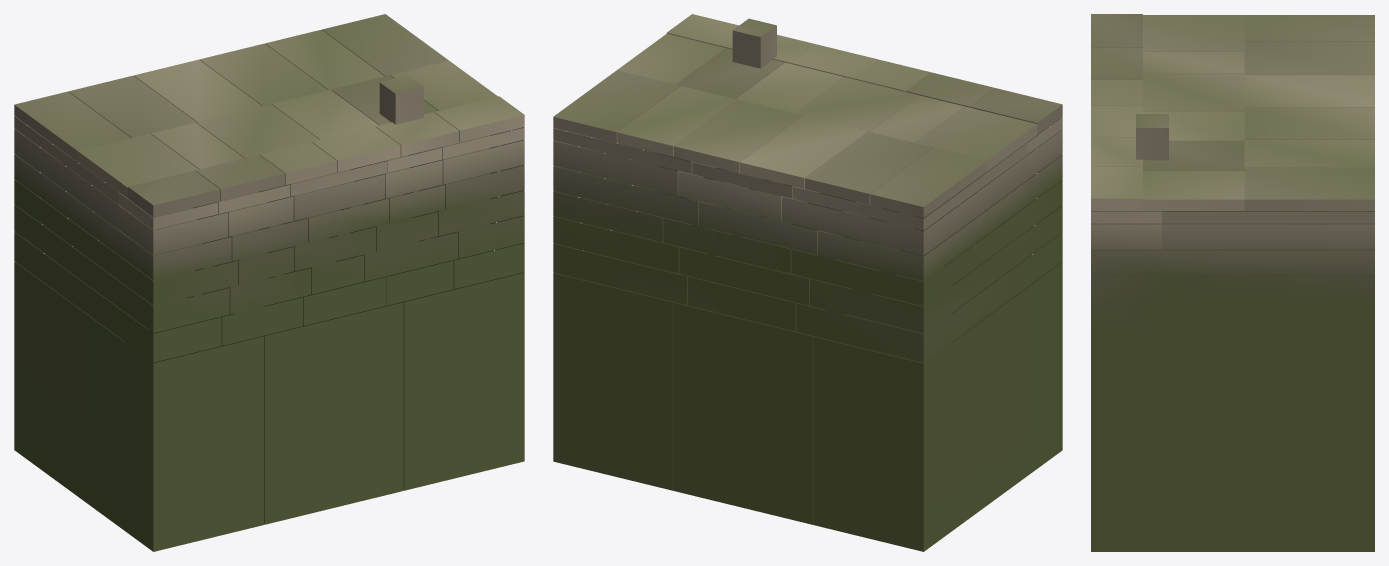
File: harbour_quay_mid.glb
3 views of the same model, side by side, from view 1: azimuth 30°, elevation 25°; view 2: azimuth 150°, elevation 25°; view 3: azimuth 270°, elevation 25° (orthographic). The views are drawn at different scales.
Visible parts, largest first — view 1: harbour_quay_mid; view 2: harbour_quay_mid; view 3: harbour_quay_mid.
Part boxes in pixels (x1,y1,x2,y2): harbour_quay_mid: (14,14,524,551); harbour_quay_mid: (553,14,1062,551); harbour_quay_mid: (1091,14,1374,551).
Bounding box in the file's own units: 18.47 × 17.94 × 12.
